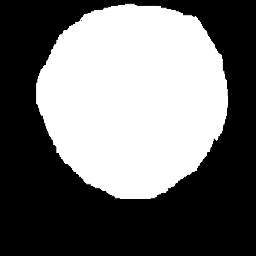mass: (40, 15, 226, 188)
